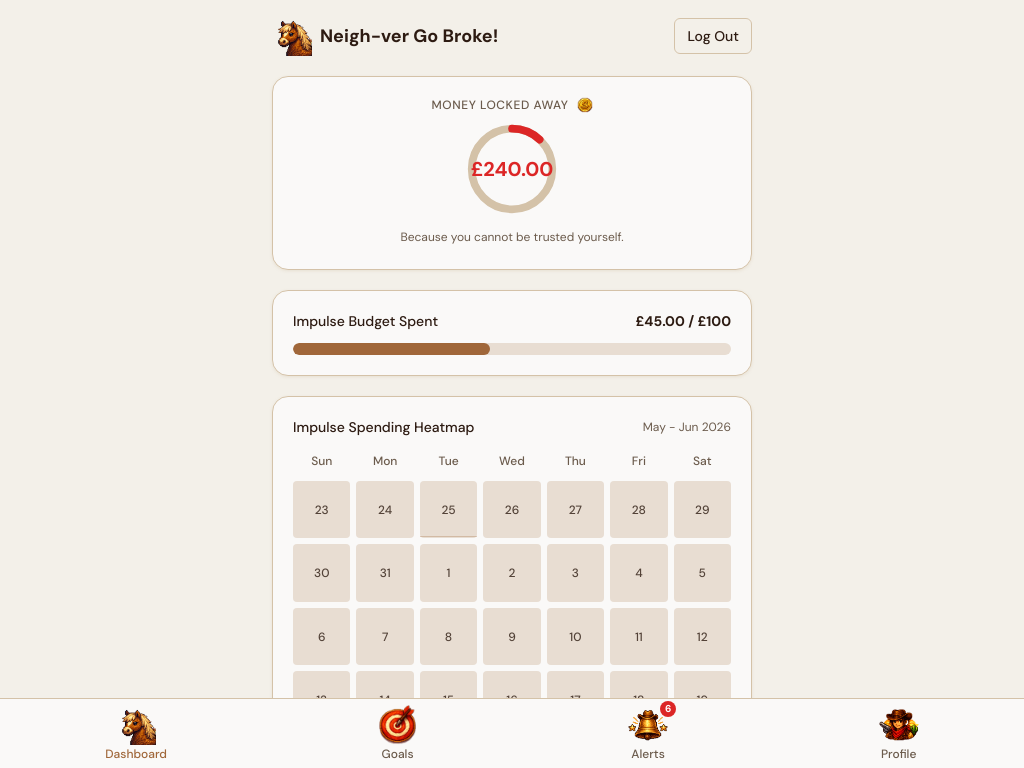
Test: MainApp › switches to Goals tab
The image size is (1024, 768).
Click the button "Goals": click(398, 734) [370,703,426,764]
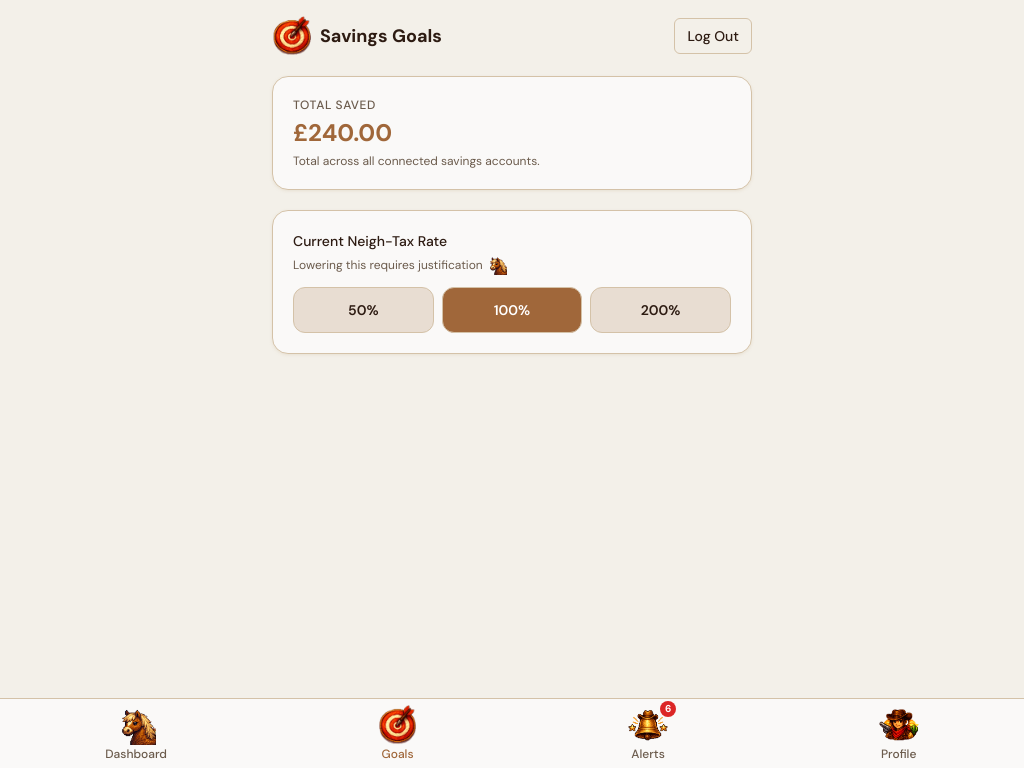
Result: the heading "Savings Goals" is shown at [320,22,442,50]
